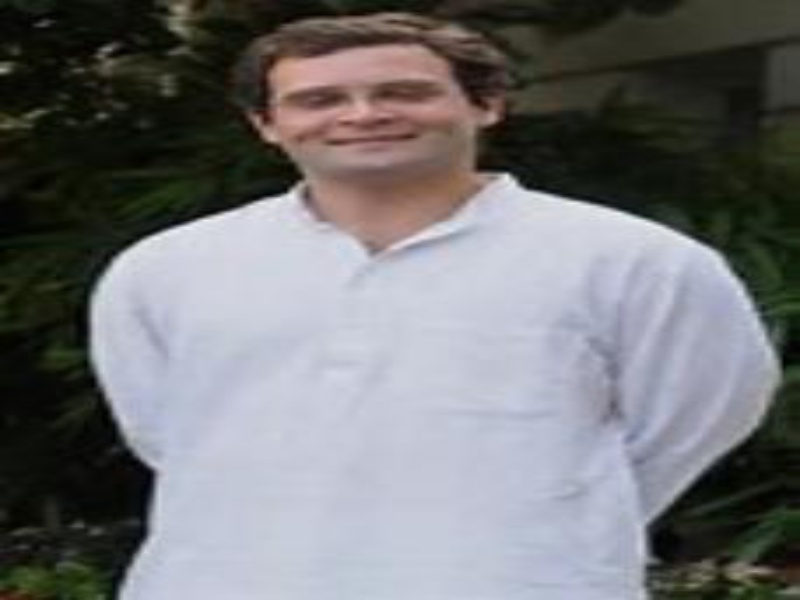TsisyArotava: (215, 9, 521, 197)
